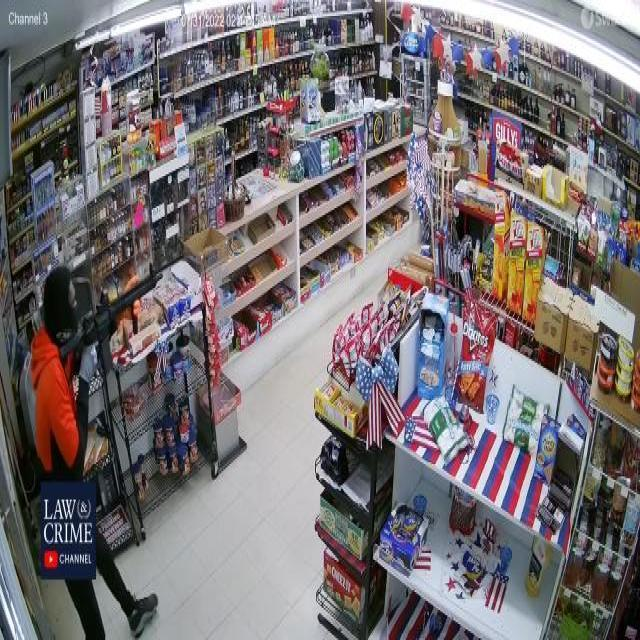pistol: (55, 264, 162, 384)
